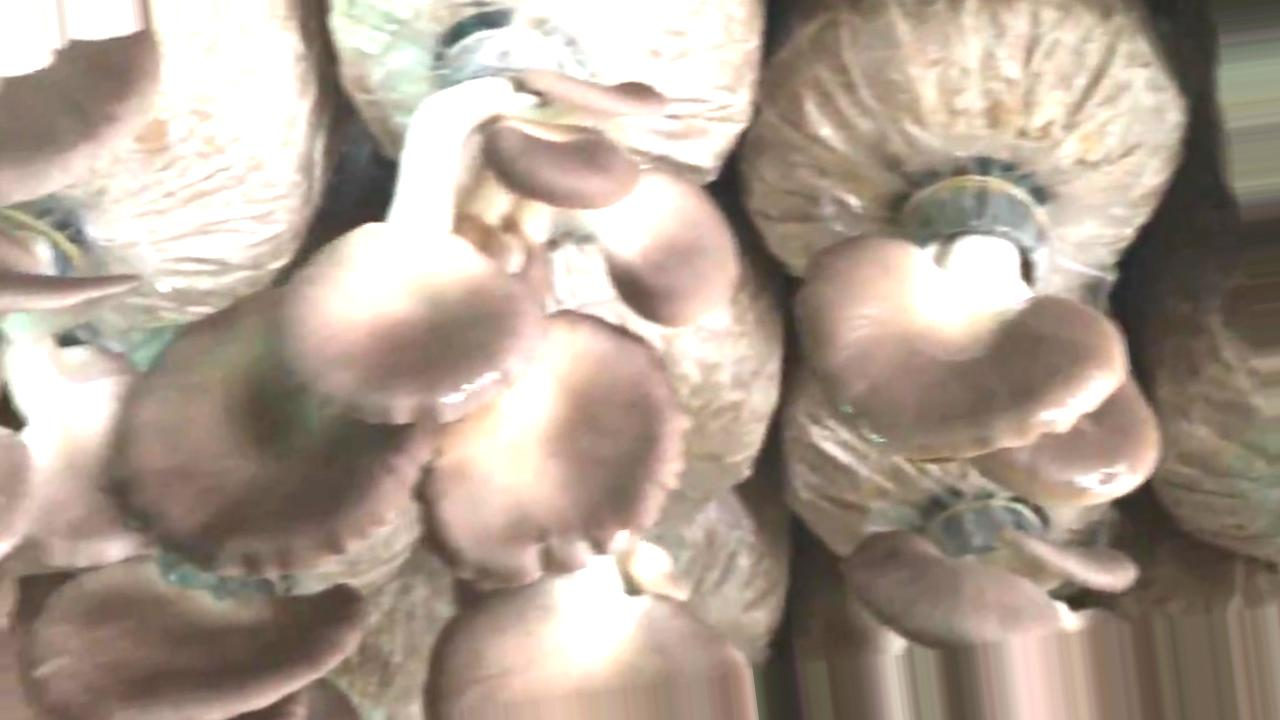nam: (98, 63, 745, 596), (786, 174, 1125, 464), (830, 498, 1149, 720), (430, 537, 756, 720), (25, 555, 374, 720), (963, 371, 1164, 510)
